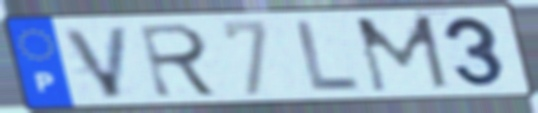3: (437, 14, 513, 90)
7: (219, 19, 275, 99)
L: (292, 18, 362, 94)
M: (351, 13, 453, 95)
R: (136, 21, 224, 101)
V: (59, 23, 133, 101)
